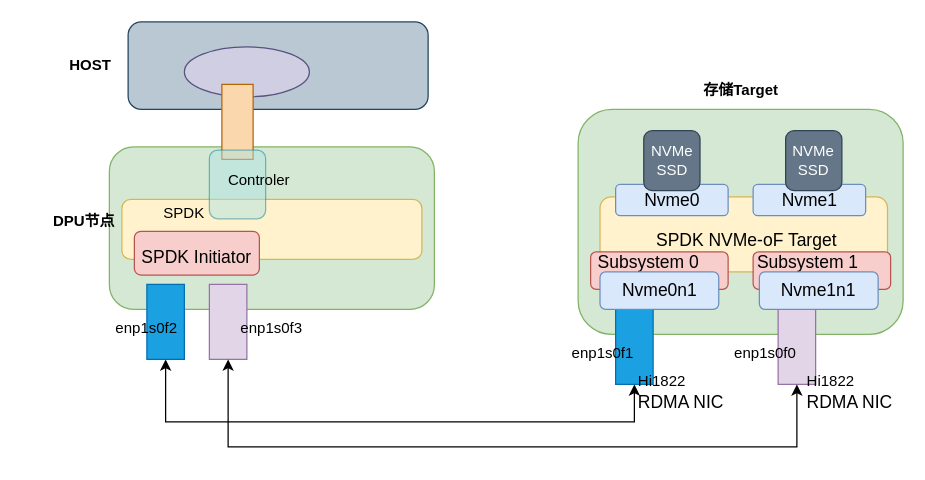
The diagram is 925 pixels wide and 480 high, and some of its shapes have lost their labels. The centre of each missing label's shape, as x and y in pixels:
"VF0" belongs at point (237, 121).
"VM" belongs at point (246, 71).
